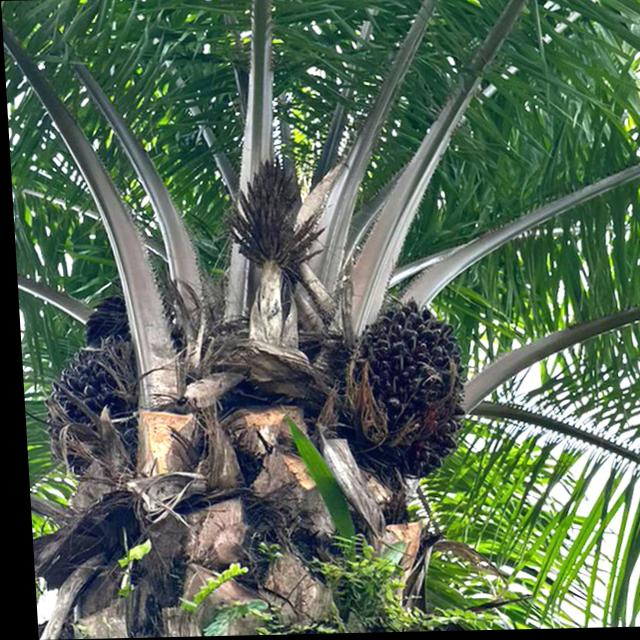almost: (318, 289, 472, 490)
